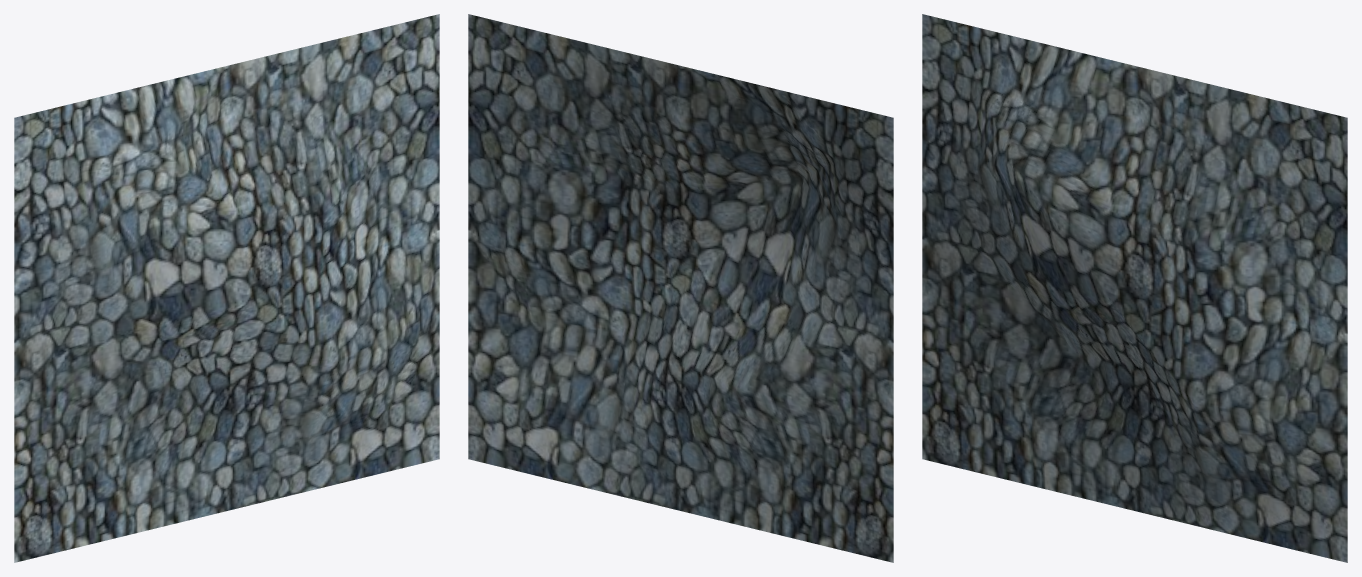
Rendered from ground_2.obj.
3 views of the same model, side by side, from view 1: azimuth 30°, elevation 25°; view 2: azimuth 150°, elevation 25°; view 3: azimuth 330°, elevation 25° (orthographic).
Visible parts, largest first — view 1: Cube; view 2: Cube; view 3: Cube.
Part boxes in pixels (x1,y1,x2,y2): Cube: (14, 14, 439, 562); Cube: (468, 14, 893, 562); Cube: (922, 14, 1347, 562).
Size of the model in its own units: 2 by 2 by 0.2188.
